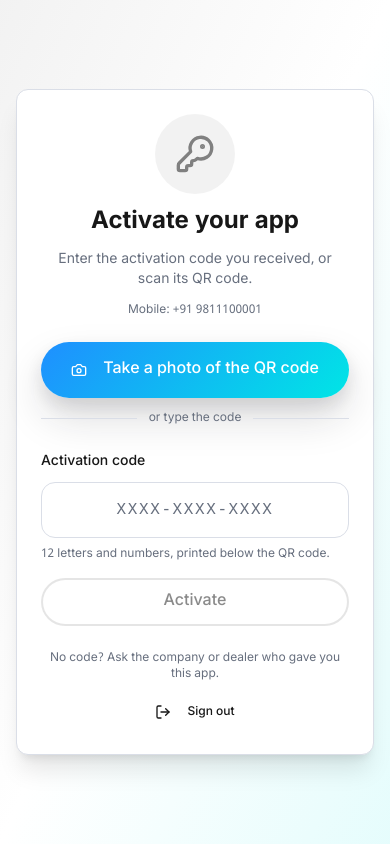
Scenario: Activate › explains a refusal (activation_invalid) and stays on the screen
The image size is (390, 844).
Expected: the button "Activate" is shown, [41,578,349,626]
Type "7K2M-9PQR-4T8X" into the field labelled "Activation code" at (195, 510), box [41,482,349,538]
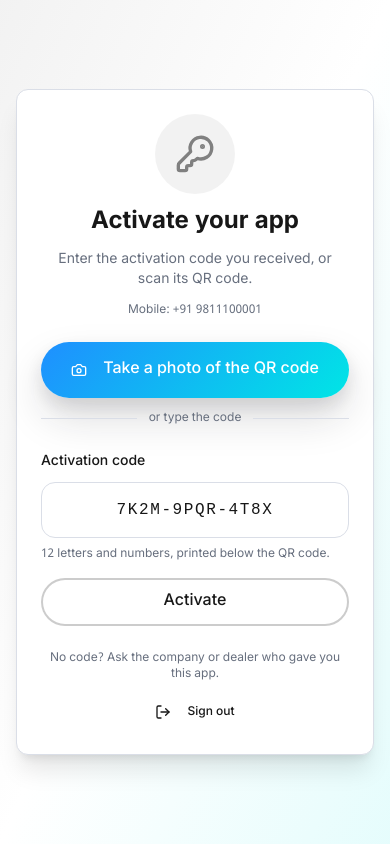
Expected: the button "Activate" is enabled
Click the button "Activate" at (195, 602), box [41,578,349,626]
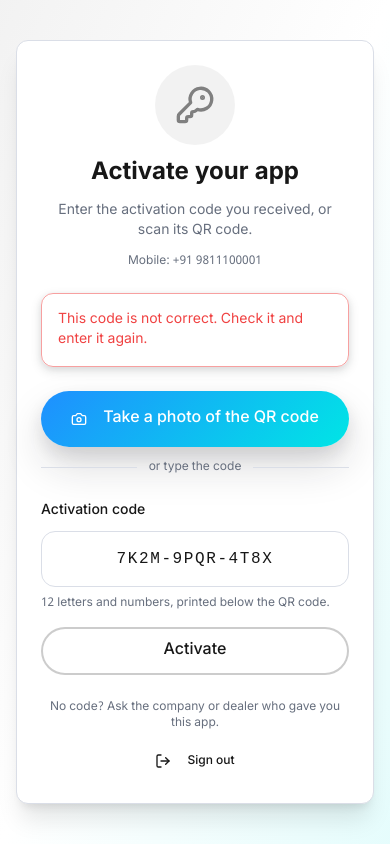
Expected: the message reads "This code is not correct. Check it and enter it again.", [58,310,303,349]
